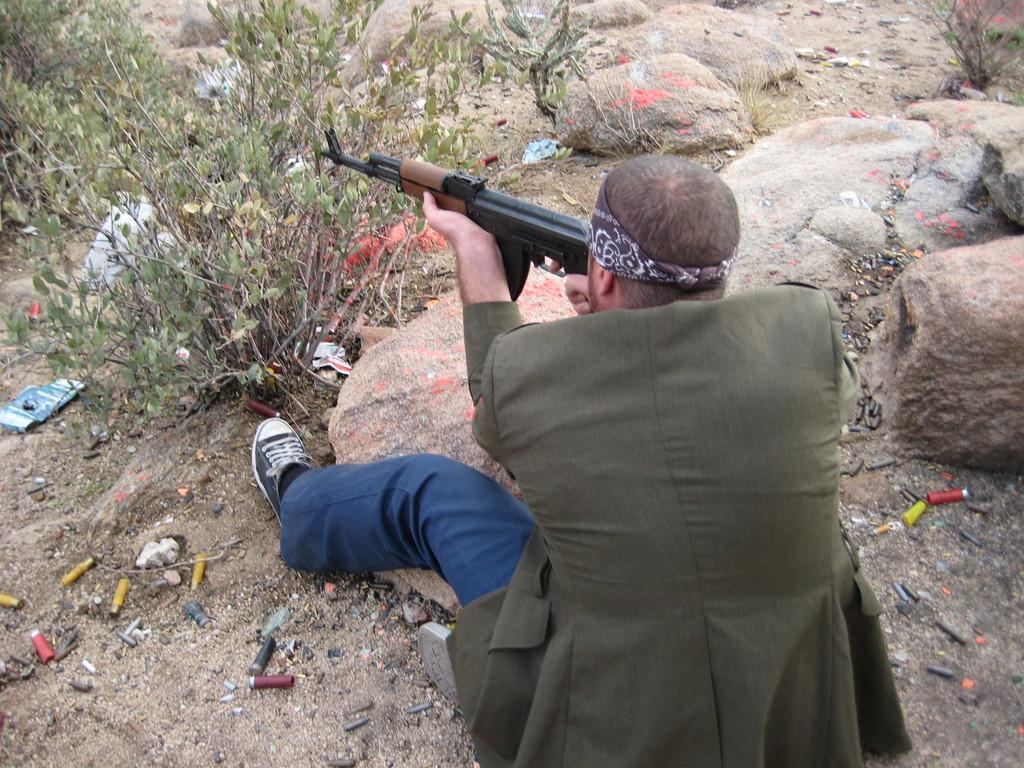Shotgun: (317, 124, 592, 302)
